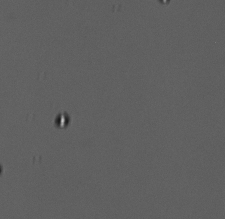Living Cell: (52, 110, 70, 129)
